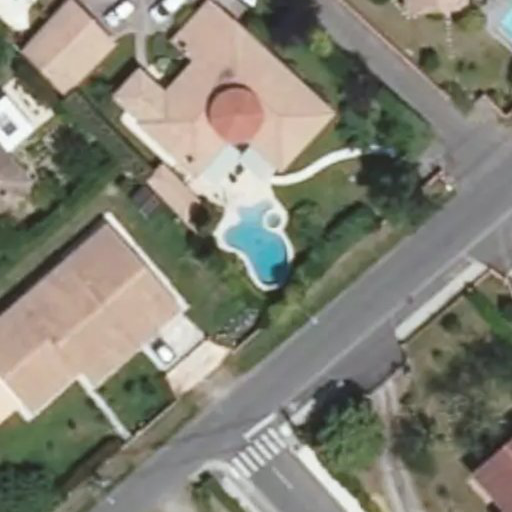pool: (211, 227, 315, 254)
